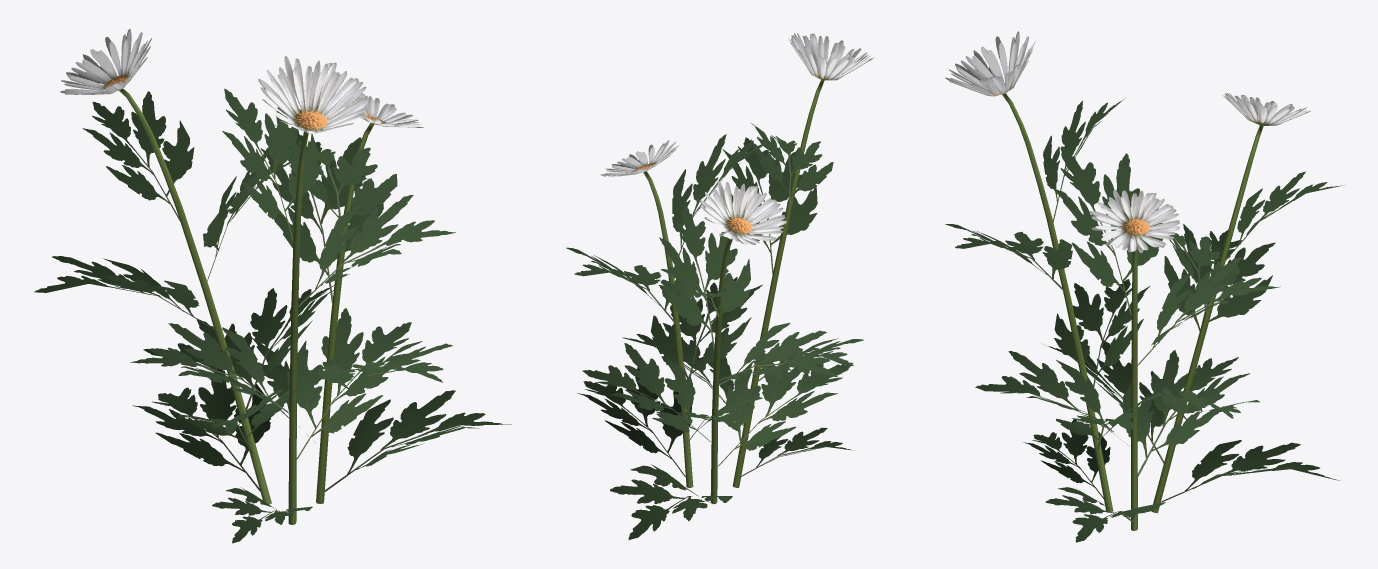
3 renders of one model, left to right at view 1: azimuth 30°, elevation 25°; view 2: azimuth 150°, elevation 25°; view 3: azimuth 270°, elevation 25°, orthographic. The views are drawn at different scales.
Visible parts, largest first — view 1: Tree_1, Tree_0, Tree_2; view 2: Tree_1, Tree_0, Tree_2; view 3: Tree_1, Tree_0, Tree_2.
Part boxes in pixels (<box>): Tree_1: <box>34,88,511,543</box>; Tree_0: <box>60,29,423,133</box>; Tree_2: <box>102,84,386,524</box>; Tree_1: <box>566,123,863,539</box>; Tree_0: <box>600,33,874,244</box>; Tree_2: <box>635,77,836,504</box>; Tree_1: <box>945,99,1344,542</box>; Tree_0: <box>945,31,1310,252</box>; Tree_2: <box>1002,93,1276,530</box>.
Bounding box in the file's own units: 1.28 × 1.48 × 1.27.
3 materials, 3 textured.
